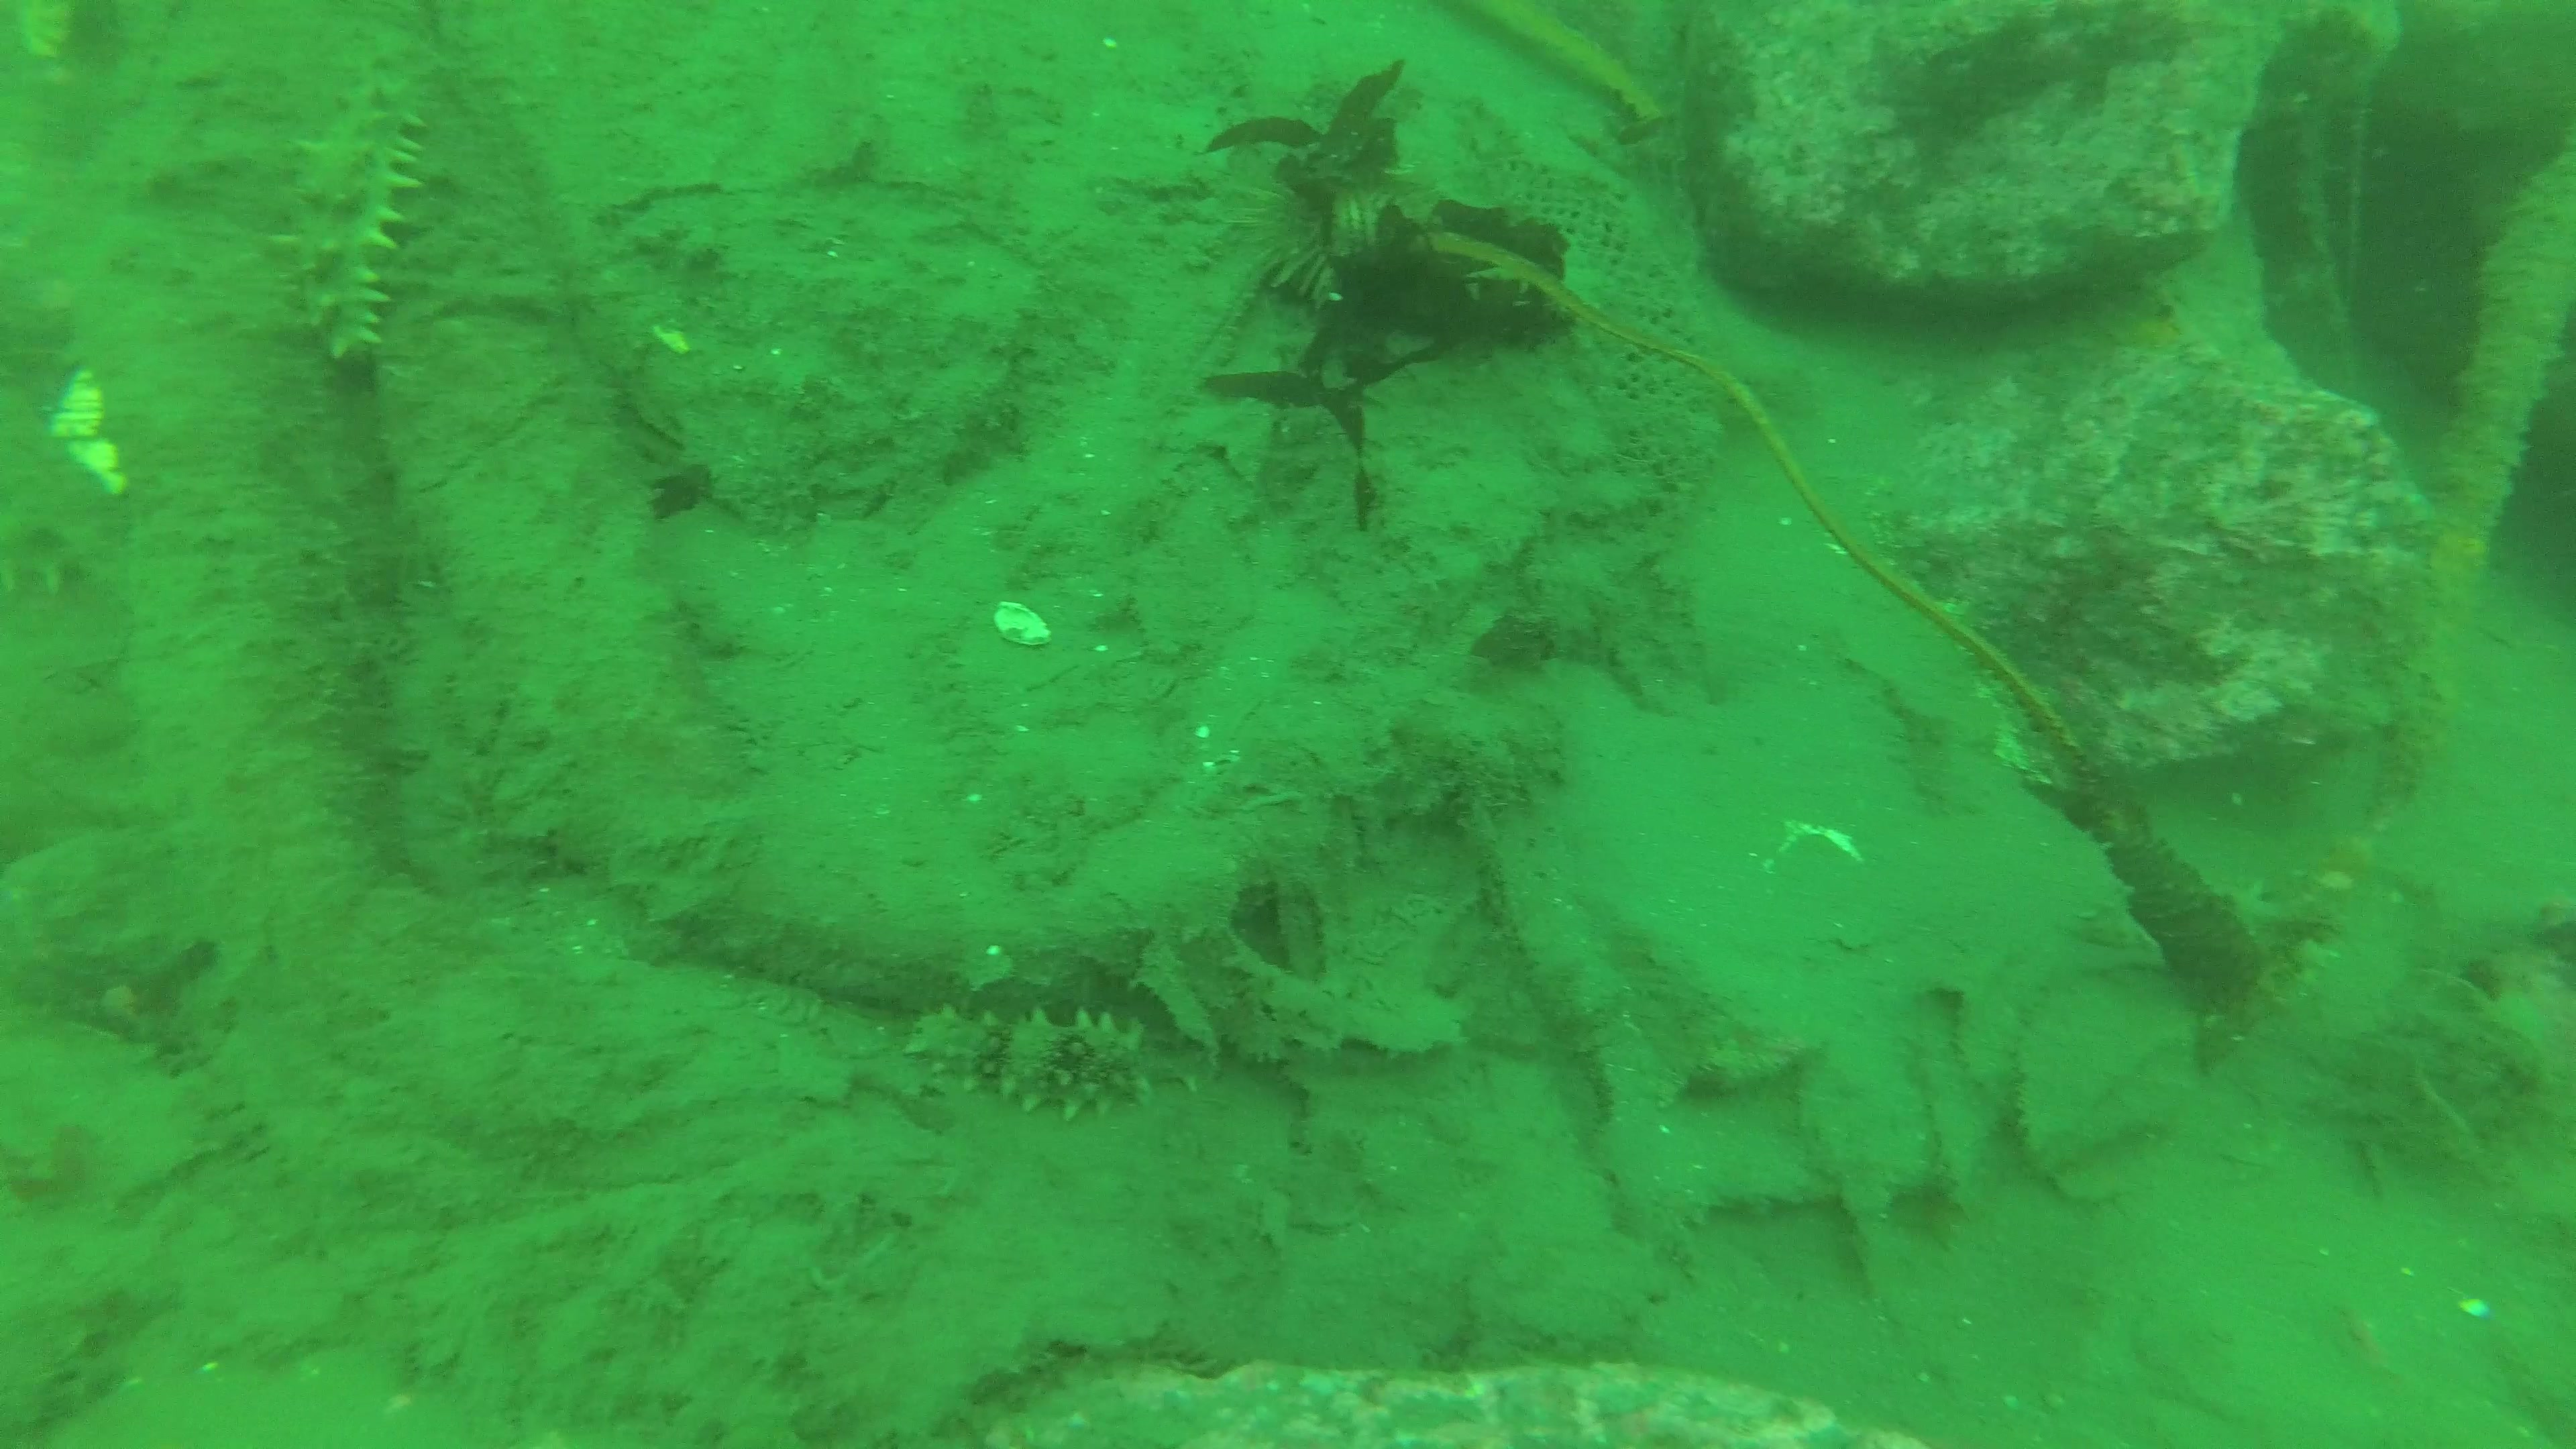echinus: (1226, 154, 1453, 308)
holothurian: (269, 81, 430, 364), (899, 1003, 1212, 1123)
starfish: (2082, 294, 2204, 370), (2204, 874, 2288, 943)
